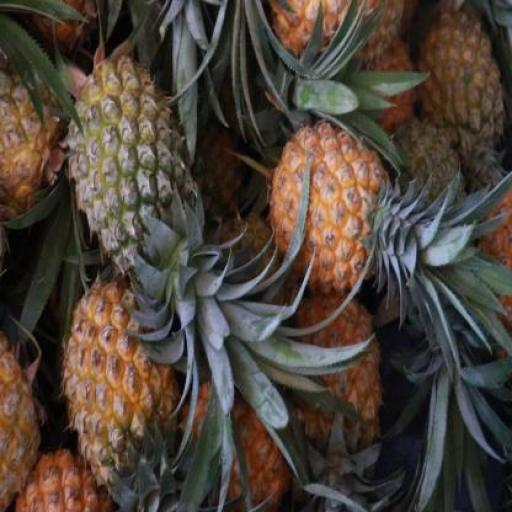------------------------------: (68, 38, 199, 262), (0, 37, 73, 221)
Pineapple - v8 v1: (62, 272, 180, 470), (270, 117, 390, 301)
